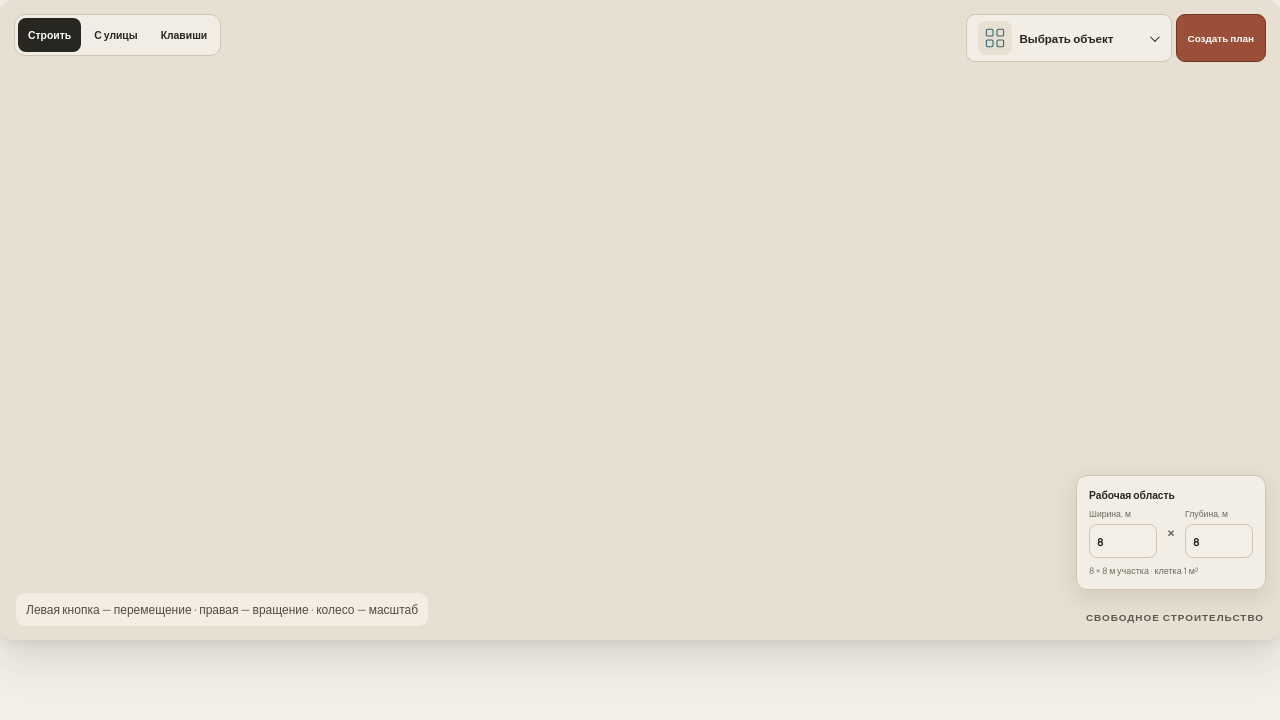
Test: 3D construction interface › снимает активный строительный инструмент по Escape
Click the button "Выбрать объект".
click(1068, 38)  # box [966, 14, 1172, 62]
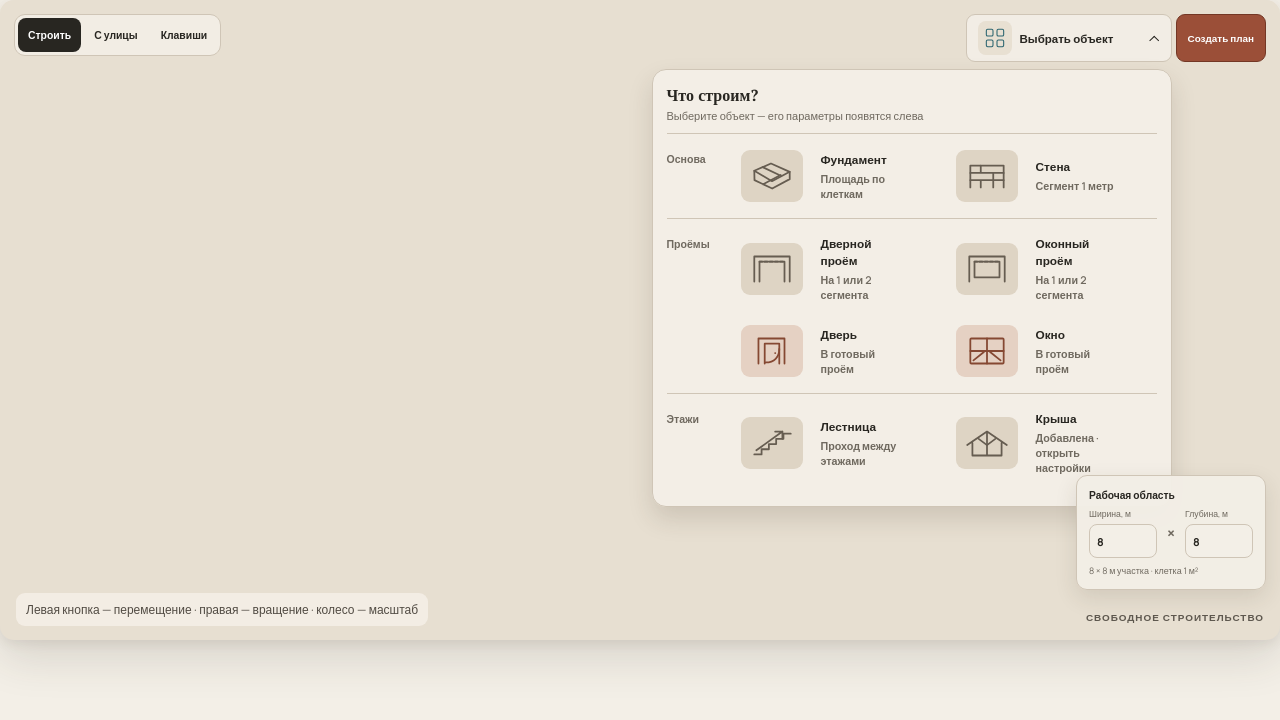
Click the button "Фундамент Площадь по клеткам".
click(837, 176)  # box [732, 142, 942, 210]
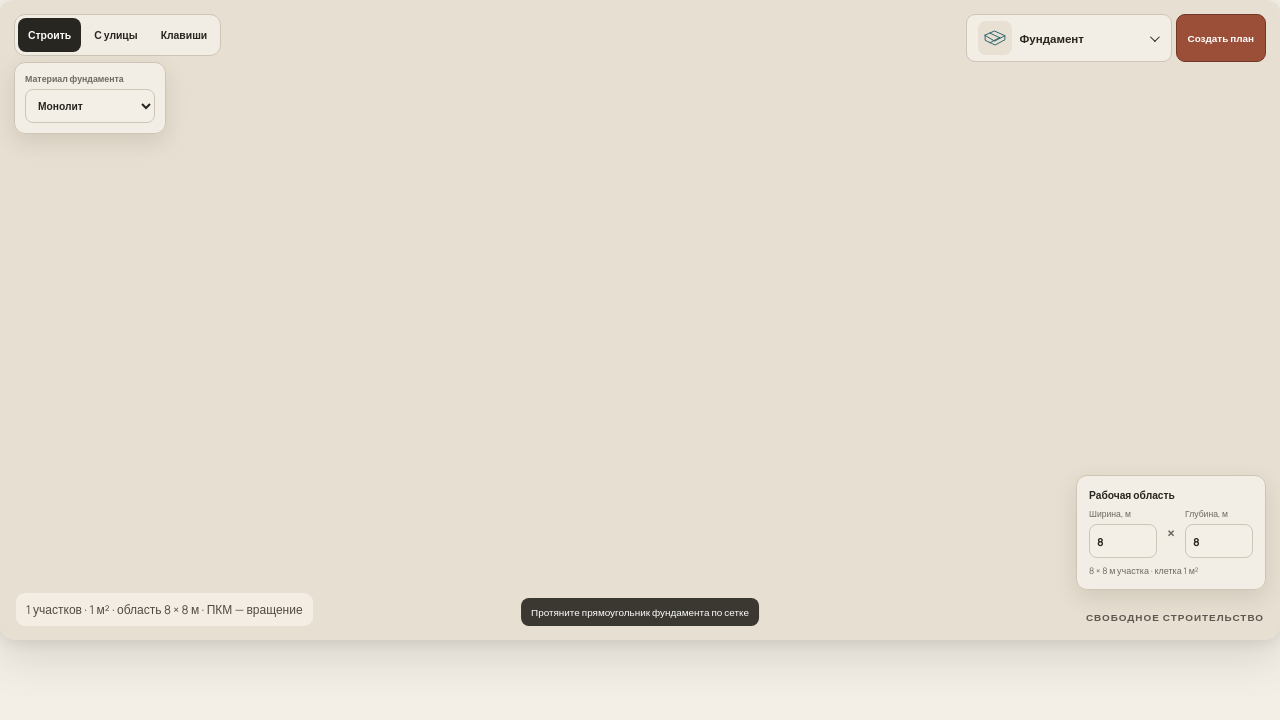
Now the element named "Свойства строительного объекта" is shown, box [14, 62, 166, 134]
Press Escape
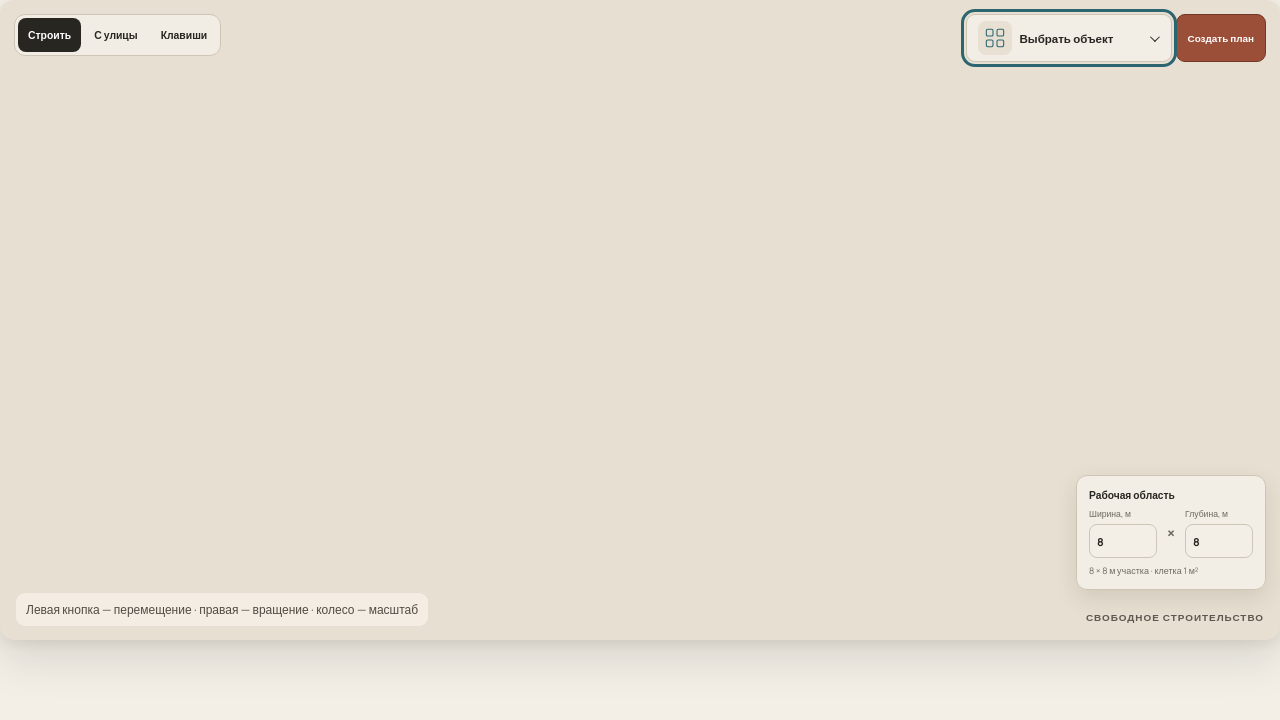
Now the button "Выбрать объект" is shown, box [966, 14, 1172, 62]
